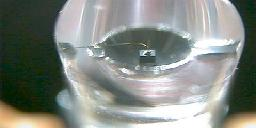LED: (45, 1, 248, 128)
